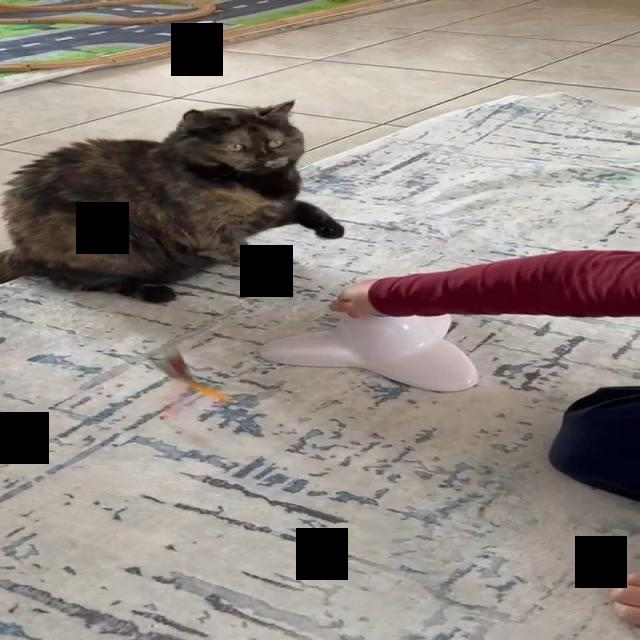authorized: (0, 98, 344, 304)
